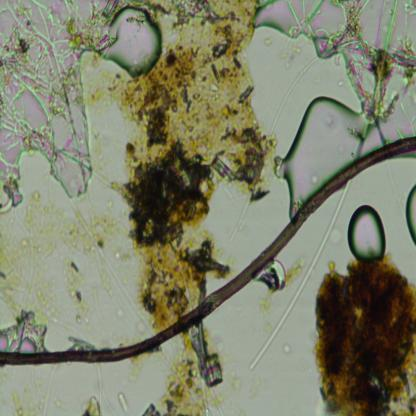Air bubble: (0, 0, 105, 213), (275, 94, 362, 186), (98, 3, 162, 76), (346, 202, 387, 264), (0, 310, 47, 353), (404, 182, 416, 248)
Background material: (128, 0, 257, 325), (313, 253, 416, 416), (0, 192, 64, 326), (61, 207, 136, 305), (159, 326, 223, 416), (269, 54, 320, 138), (89, 72, 141, 126), (62, 258, 94, 328), (262, 257, 304, 293), (101, 174, 142, 210), (9, 389, 39, 416), (127, 356, 150, 382), (258, 294, 272, 334), (280, 41, 300, 66), (82, 396, 102, 416), (140, 401, 160, 416), (329, 226, 343, 246), (230, 371, 242, 392), (135, 320, 148, 336), (282, 342, 292, 356), (264, 38, 274, 46)
Diatom: (202, 353, 224, 390), (212, 159, 235, 182)
Glass filter fibre: (250, 182, 349, 370), (229, 194, 252, 241), (39, 362, 58, 416), (96, 362, 113, 416), (118, 391, 133, 414)
Microfibre: (0, 135, 416, 367)
